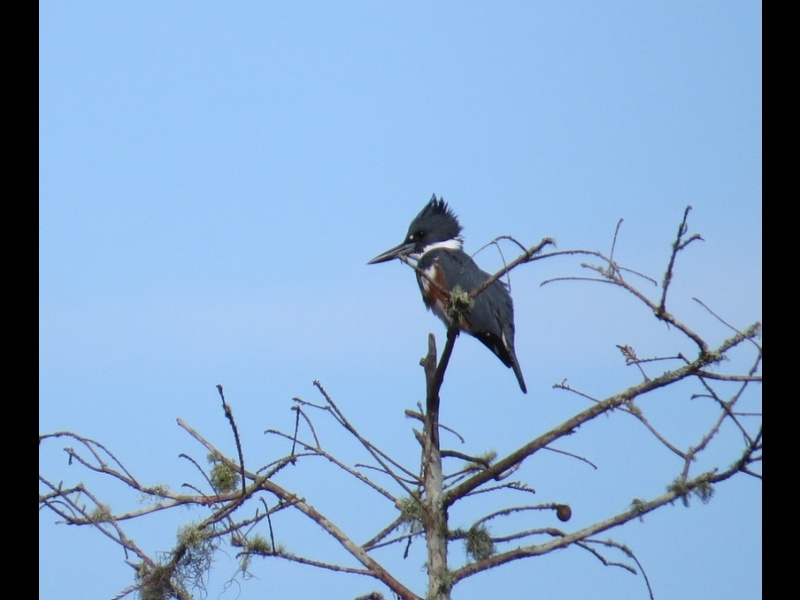kingfisher: (367, 193, 533, 396)
